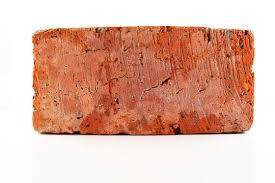brick: (33, 27, 253, 133)
